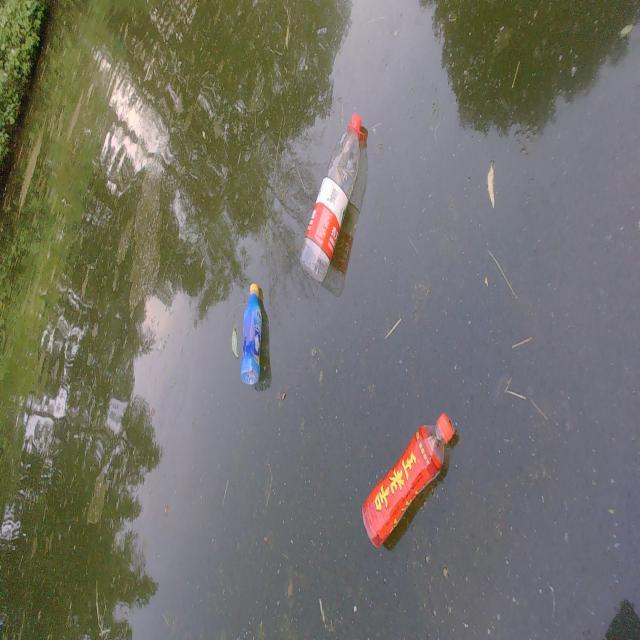bottle: (340, 372, 480, 567), (229, 276, 279, 394)
